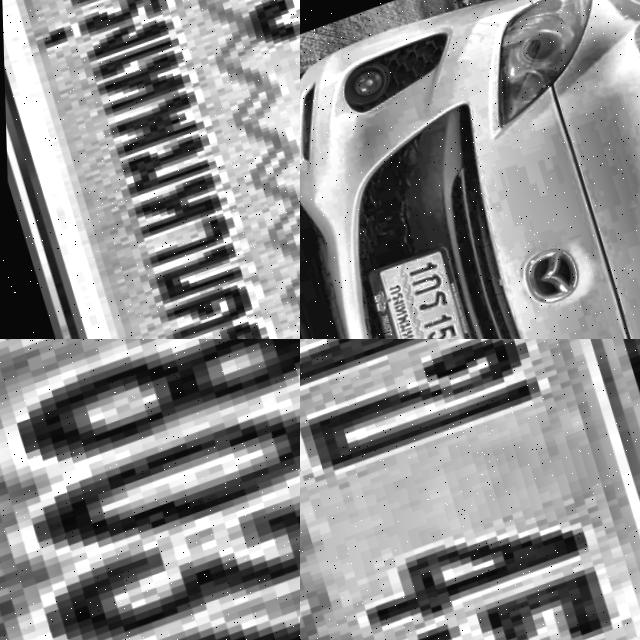license-plate: (300, 339, 640, 640), (0, 0, 300, 339), (0, 339, 300, 640), (356, 241, 482, 339)
